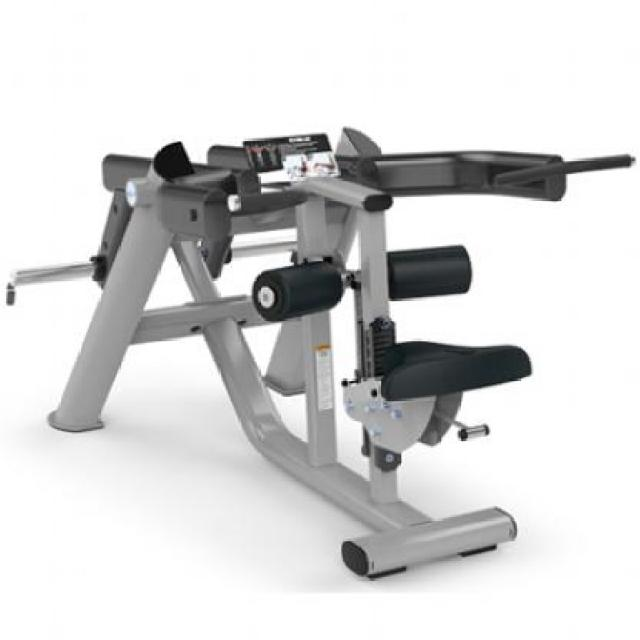seated dip machine: (7, 126, 636, 585)
